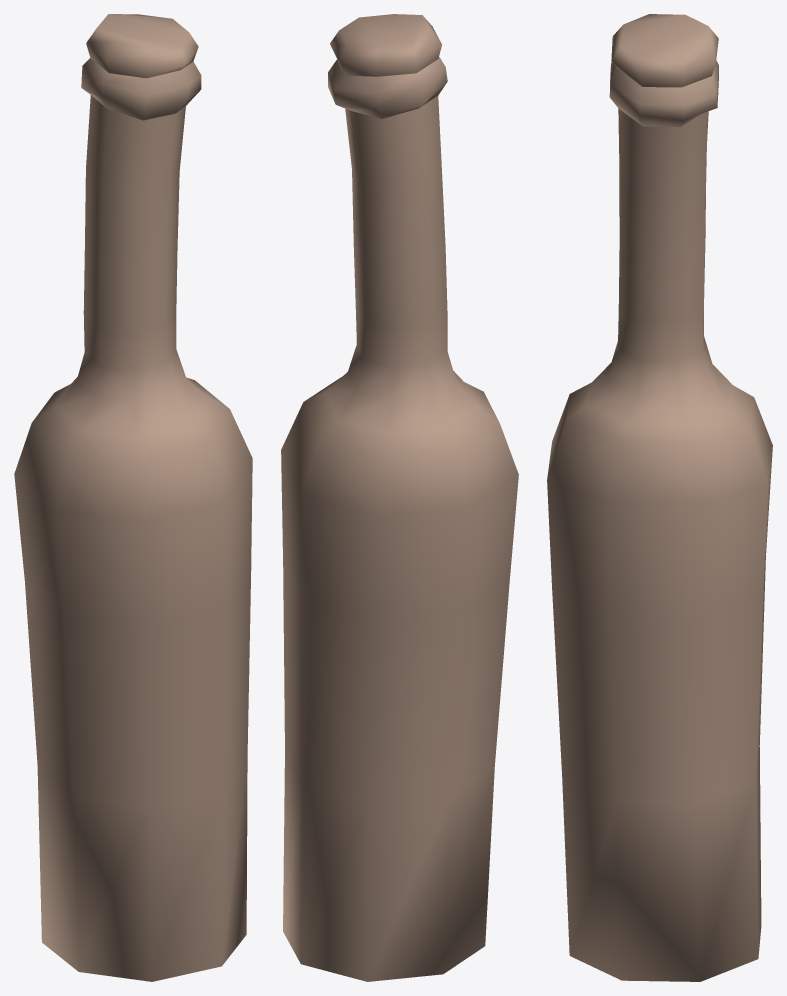
The model's file is Bottle02.fbx.
3 views of the same model, side by side, from view 1: azimuth 30°, elevation 25°; view 2: azimuth 150°, elevation 25°; view 3: azimuth 270°, elevation 25° (orthographic).
Parts seen in each view (by area): view 1: beer_bottle_0; view 2: beer_bottle_0; view 3: beer_bottle_0.
Boxes of the visible parts, x1,y1,x2,y2 form: beer_bottle_0: (14,14,252,981); beer_bottle_0: (281,14,518,981); beer_bottle_0: (547,14,772,981).
Size of the model in its own units: 11.59 by 51.45 by 11.59.
